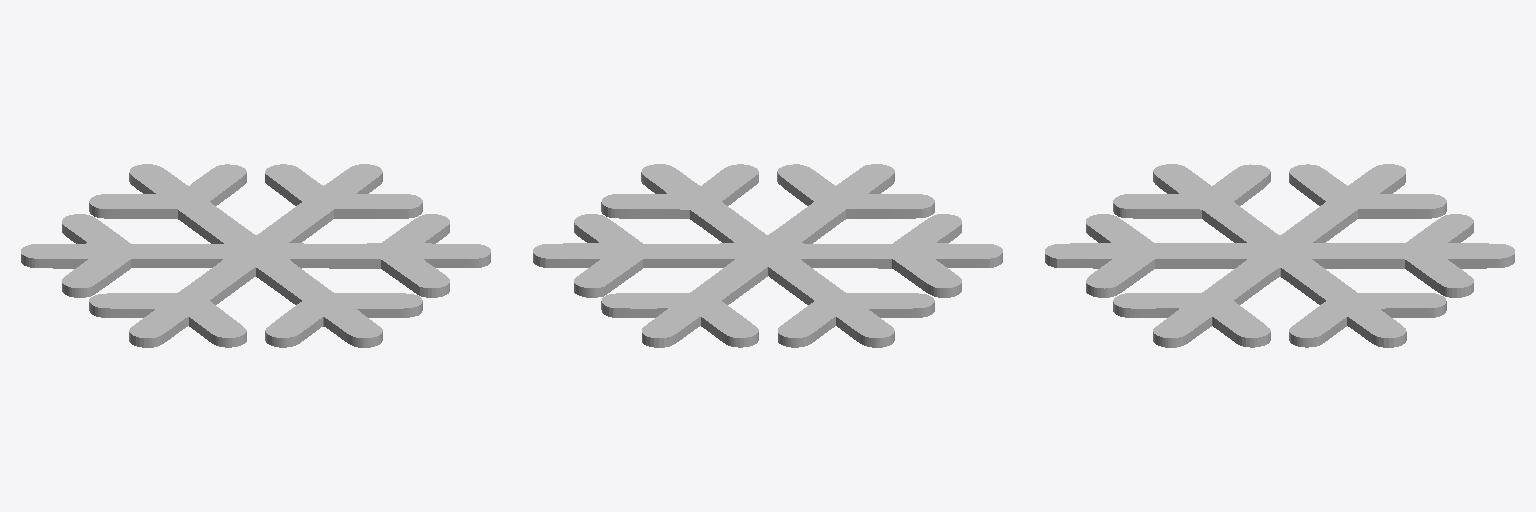
The model's file is snowflK.obj.
3 renders of one model, left to right at view 1: azimuth 30°, elevation 25°; view 2: azimuth 150°, elevation 25°; view 3: azimuth 270°, elevation 25°, orthographic.
Visible parts, largest first — view 1: obj_0; view 2: obj_0; view 3: obj_0.
Boxes of the visible parts, box(x1,y1,x2,y2) form: obj_0: box(21, 164, 490, 347); obj_0: box(533, 164, 1002, 347); obj_0: box(1045, 164, 1514, 347).
Size of the model in its own units: 4.26 by 0.1084 by 4.86.